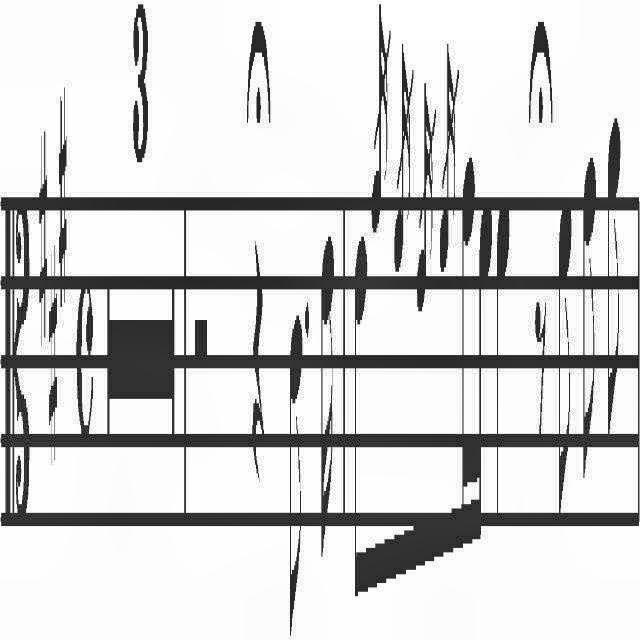Diez: (38, 121, 48, 346), (58, 87, 68, 309), (48, 243, 58, 462)
Eighth-note: (354, 232, 371, 620), (580, 152, 598, 496), (606, 110, 622, 446), (288, 309, 304, 639), (558, 204, 574, 520)
Eighth-rest: (533, 276, 547, 452)
Quarter-note: (496, 191, 510, 529)
Quarter-rest: (252, 232, 264, 482)
Sixteenth-note: (316, 220, 336, 560), (460, 150, 476, 562), (476, 188, 492, 568)
